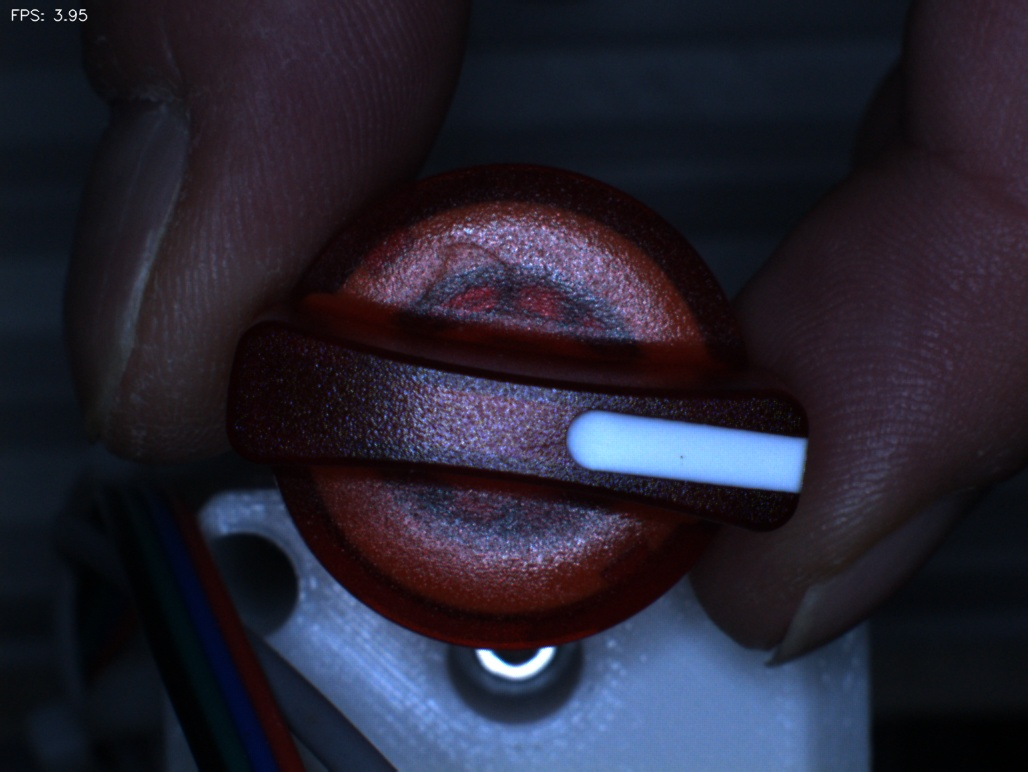PointNoir: (640, 422, 729, 490)
